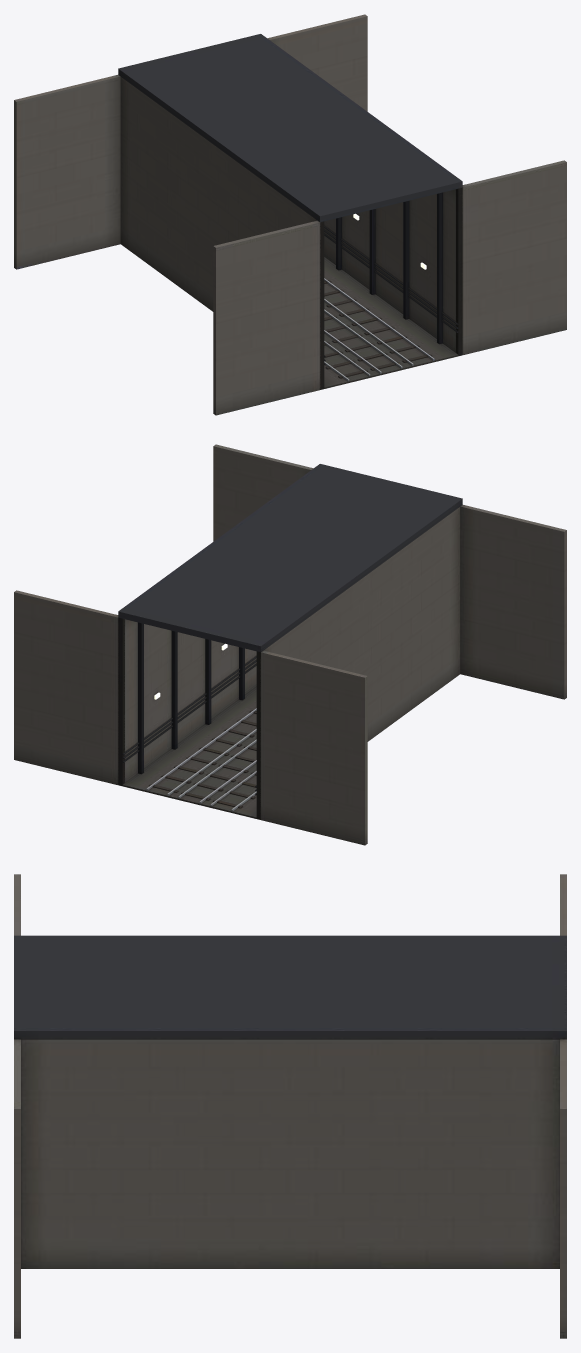
The model's file is metro_tunel.glb.
3 views of the same model, one above another, from view 1: azimuth 30°, elevation 25°; view 2: azimuth 150°, elevation 25°; view 3: azimuth 270°, elevation 25° (orthographic). The views are drawn at different scales.
Visible parts, largest first — view 1: metro_tunel; view 2: metro_tunel; view 3: metro_tunel.
Part boxes in pixels (left/top/right/bottom): metro_tunel: left=14, top=14, right=566, bottom=415; metro_tunel: left=14, top=444, right=566, bottom=845; metro_tunel: left=14, top=874, right=566, bottom=1338.
Size of the model in its own units: 24.1 by 11.4 by 24.
Materials: 1 (1 with a texture image).
